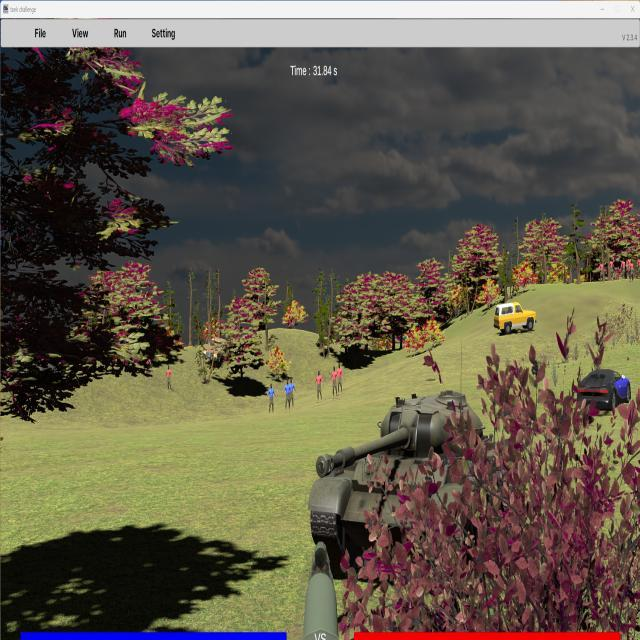Tank: (310, 390, 509, 574)
car: (577, 367, 632, 413), (494, 301, 536, 335)
